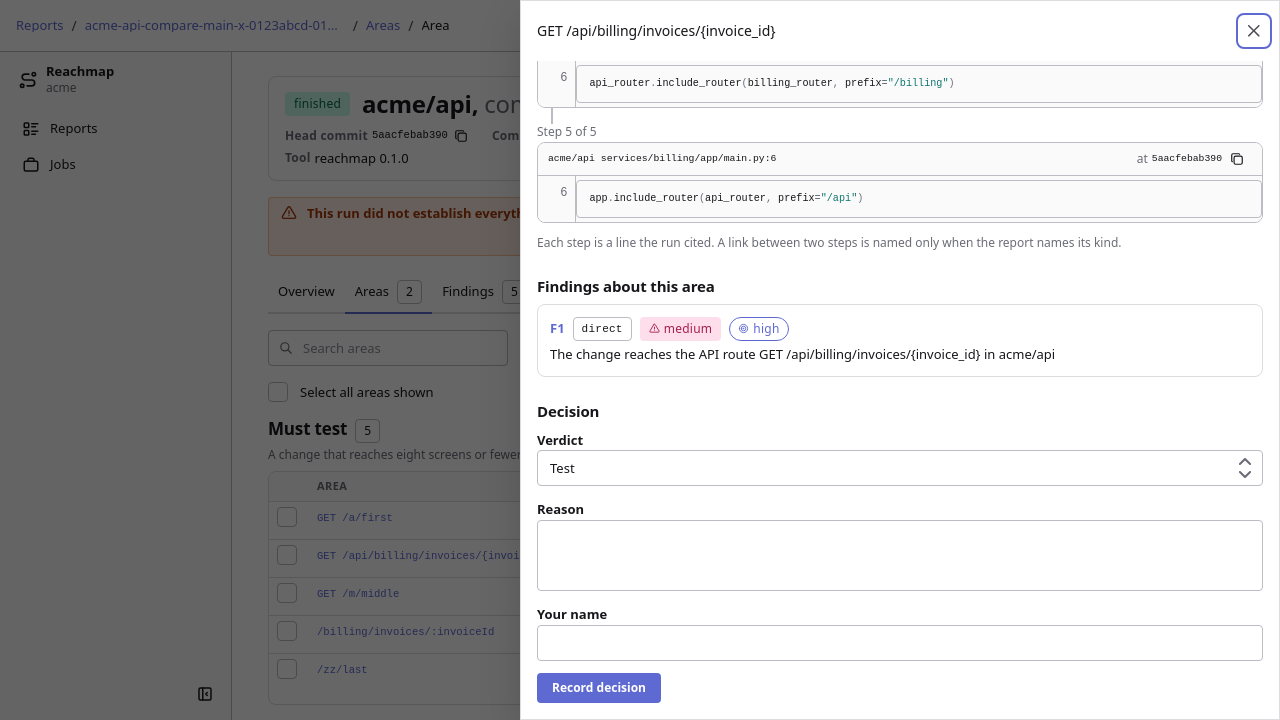
it: recording a decision › says the answer once in a drawer (its status line, no toast over the form) and in a toast when a dialog closes
(page scrolled)
Expected: the tab "Areas 2" is shown, 345,272 -> 432,314
Expected: the table is shown, 269,472 -> 1243,692
Type "Quinn" into the field labelled "Your name" at point(900, 643), box 537,625 -> 1263,661
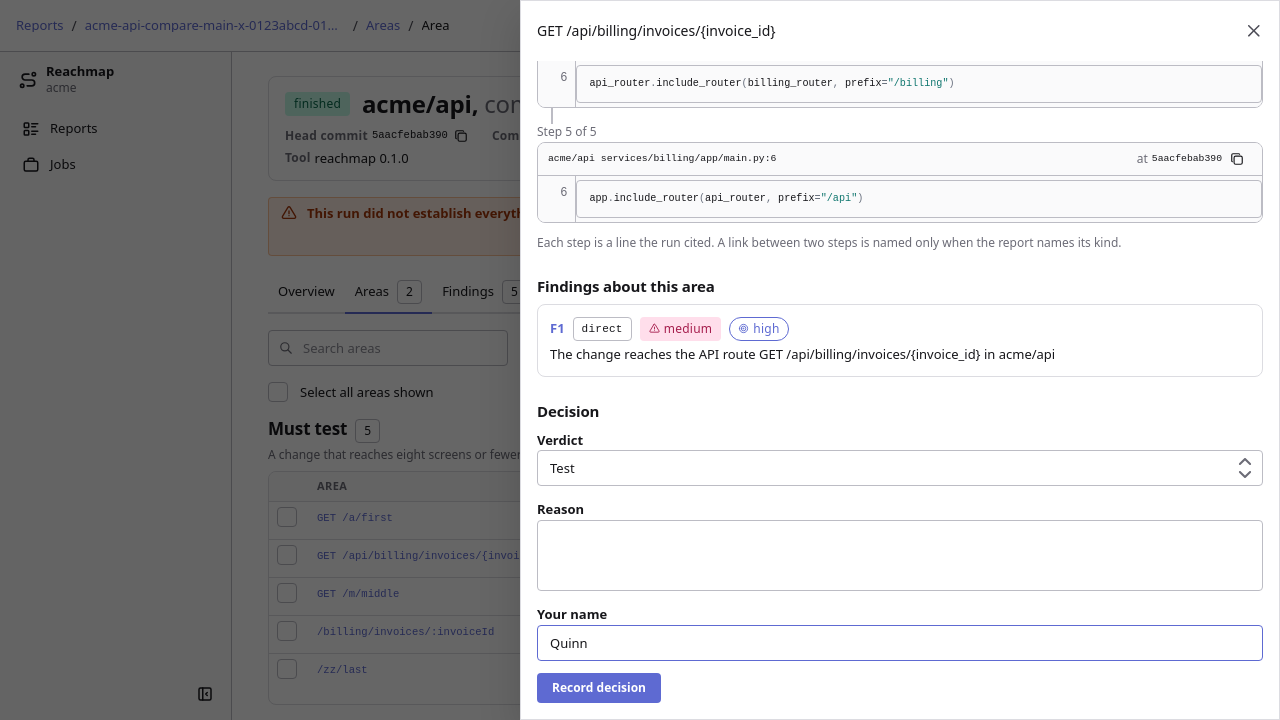
Click the button "Record decision" at point(599, 688), box 537,673 -> 661,703
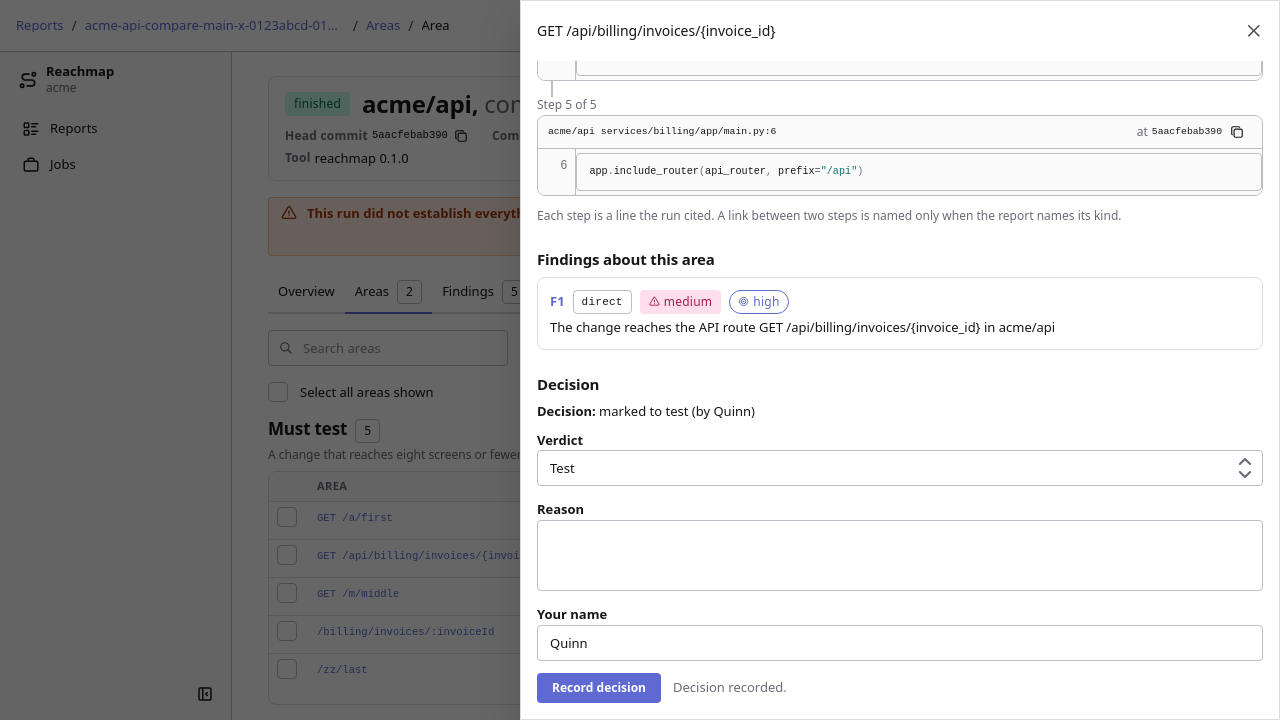
Now the text "Decision recorded." is shown once, box 673,678 -> 787,697
